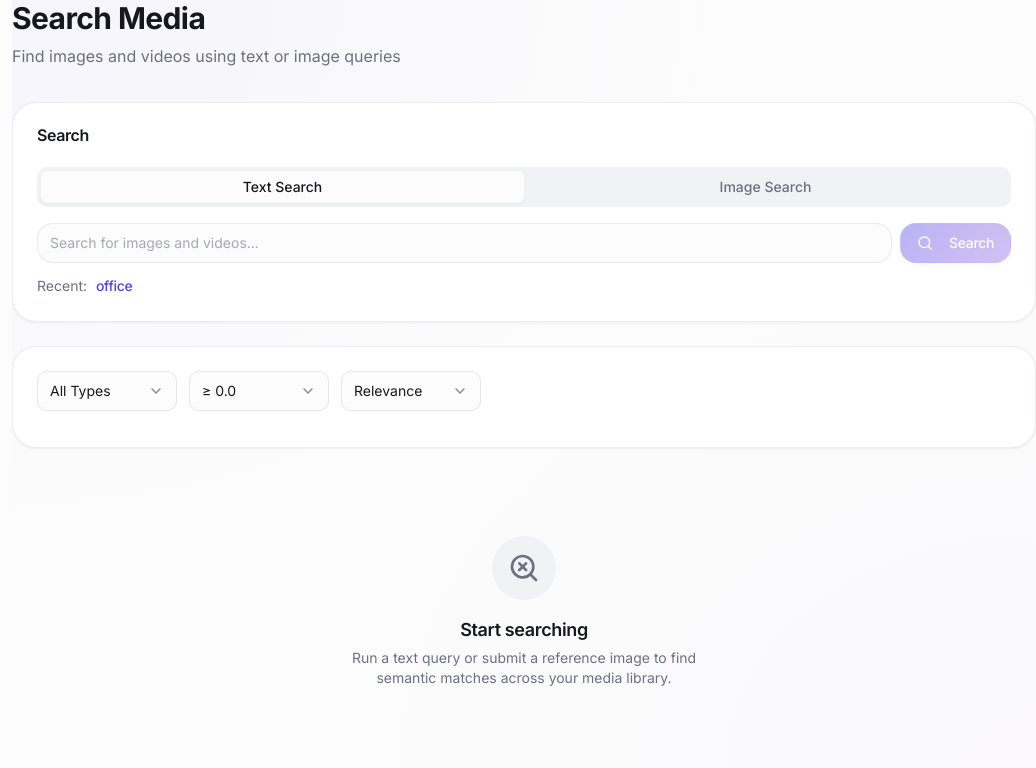
SearchPage grouped video-scene rendering › renders a single video-group when multiple scenes from same video are returned
The image size is (1036, 768).
Type "office desk" into the field with placeholder "Search for images and videos..." at (465, 243), box top-left (37, 223), bottom-right (892, 263)
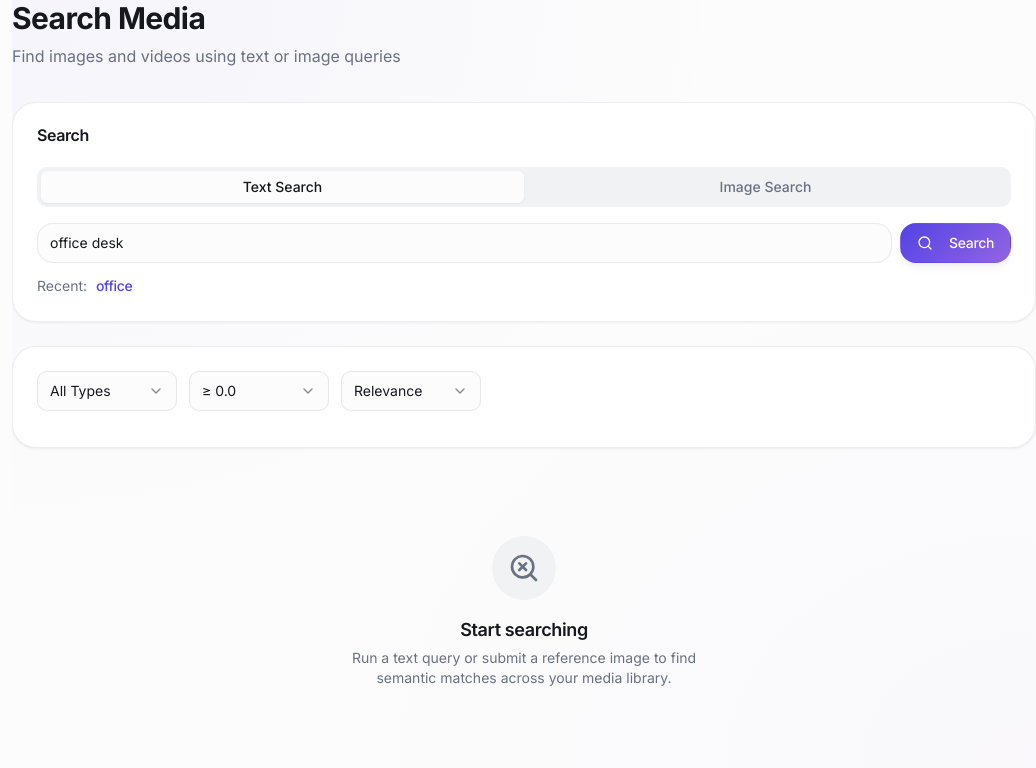
Press Enter in the field with placeholder "Search for images and videos...", box top-left (37, 223), bottom-right (892, 263)
(page scrolled)
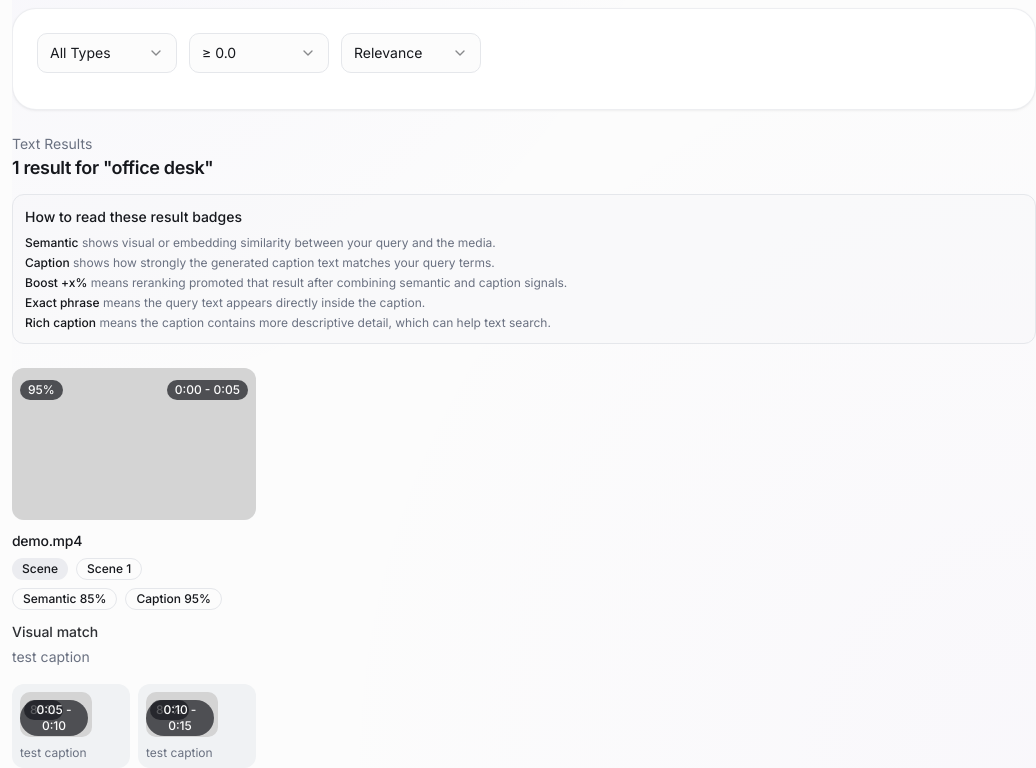
Result: the heading "1 result for \"office desk\"" is shown at top-left (12, 157), bottom-right (213, 178)
Result: the heading "demo.mp4" is shown at top-left (12, 532), bottom-right (82, 549)
Result: the text "0:00 - 0:05" is shown at top-left (167, 380), bottom-right (248, 400)
